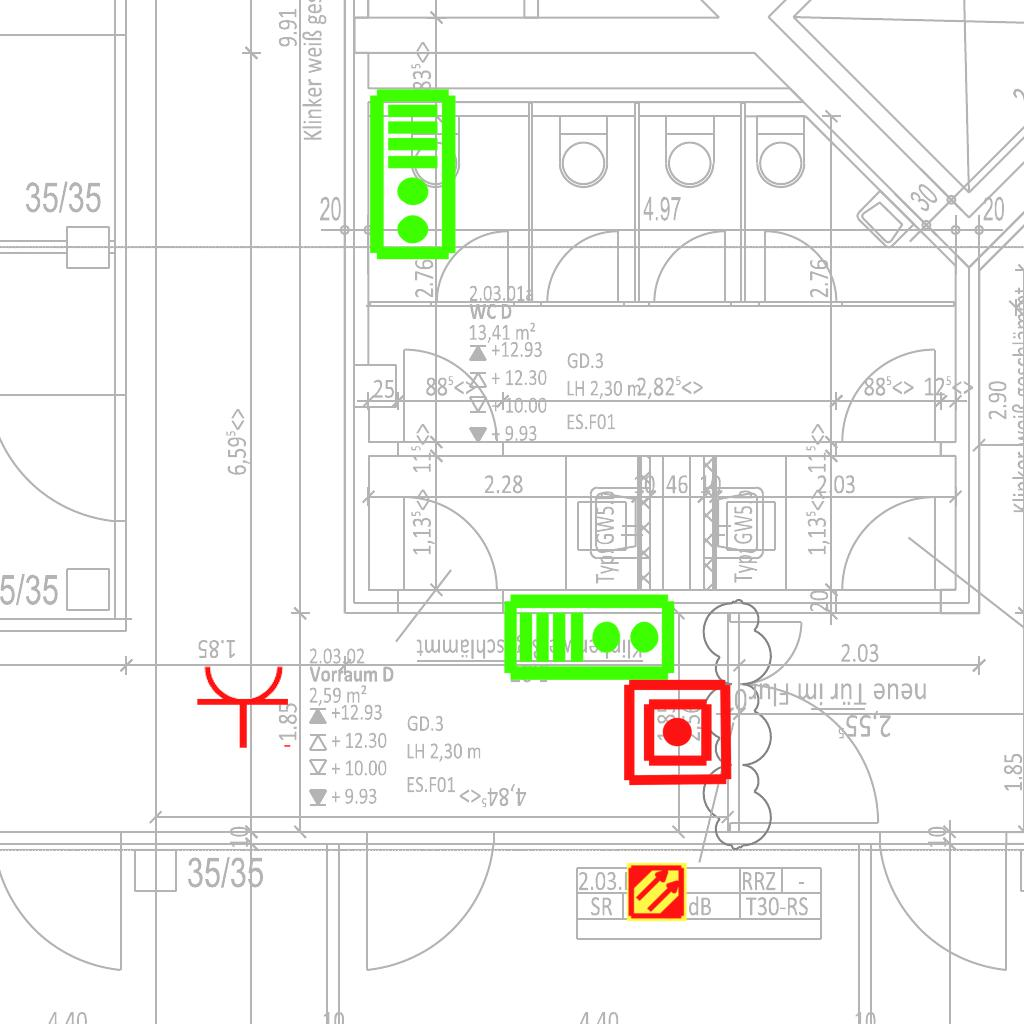ASR_Ansaugrauchmelder: (626, 861, 688, 923)
Gegensprechanlage_mit_Video: (502, 588, 678, 683), (367, 87, 462, 263)
NAM-Nichtautomatischer_Melder: (621, 676, 734, 789)
Schukosteckdose_einfach: (195, 663, 295, 750)
